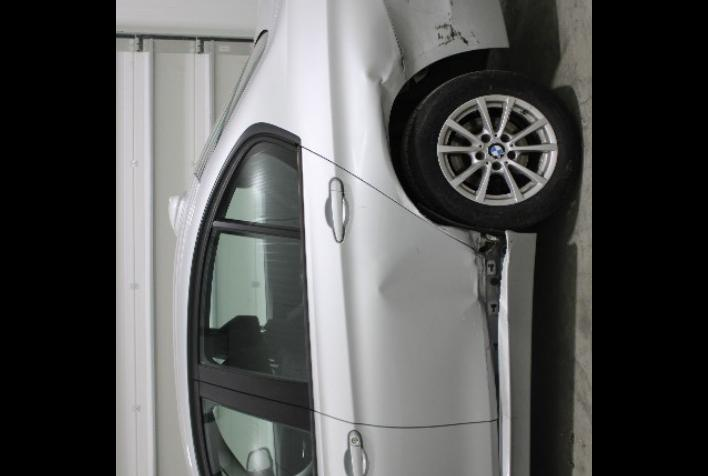Broken part: (477, 229, 537, 476)
Dent: (376, 227, 484, 320), (362, 9, 407, 151), (388, 7, 439, 80), (391, 181, 453, 234), (466, 230, 485, 249)
Paint chip: (434, 0, 482, 48)
Scratch: (484, 342, 491, 389), (403, 0, 412, 5)
